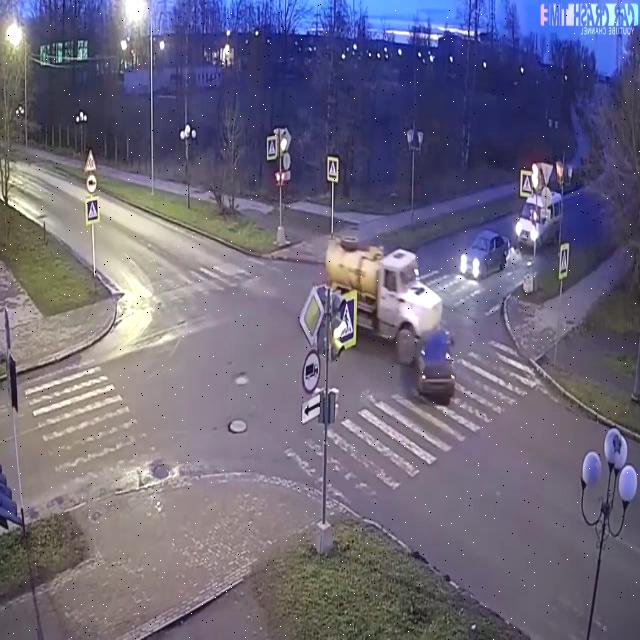accident: (295, 218, 463, 415)
